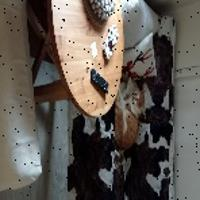asleep: (114, 86, 145, 150)
